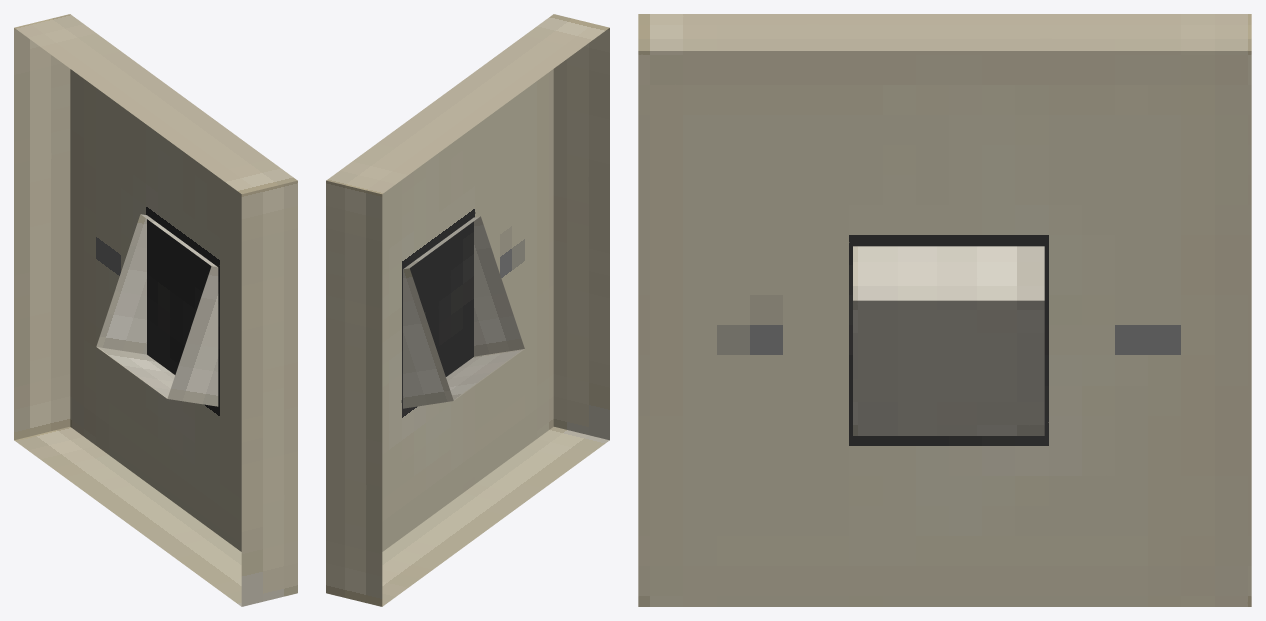
Rendered from Wlacznik.gltf.
3 renders of one model, left to right at view 1: azimuth 30°, elevation 25°; view 2: azimuth 150°, elevation 25°; view 3: azimuth 270°, elevation 25°, orthographic. The views are drawn at different scales.
Parts seen in each view (by area): view 1: Wlacznik, PrzyciskWl; view 2: Wlacznik, PrzyciskWl; view 3: Wlacznik, PrzyciskWl.
Boxes of the visible parts, x1,y1,x2,y2 form: Wlacznik: (14,14,297,606); PrzyciskWl: (96,214,218,406); Wlacznik: (326,14,609,606); PrzyciskWl: (403,216,524,408); Wlacznik: (638,14,1251,606); PrzyciskWl: (853,246,1044,435).
Bounding box in the file's own units: 0.0235 × 0.0908 × 0.0908.
1 material, 1 textured.
